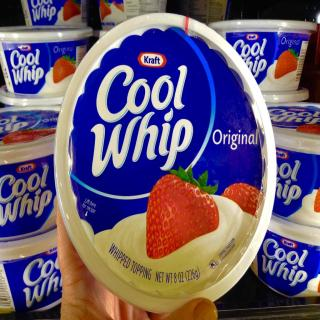Strawberry: (143, 169, 219, 260), (218, 182, 264, 217), (3, 126, 54, 146), (274, 47, 300, 78), (52, 53, 76, 83), (60, 0, 81, 20), (295, 123, 320, 135), (98, 0, 111, 20), (312, 184, 320, 214)
